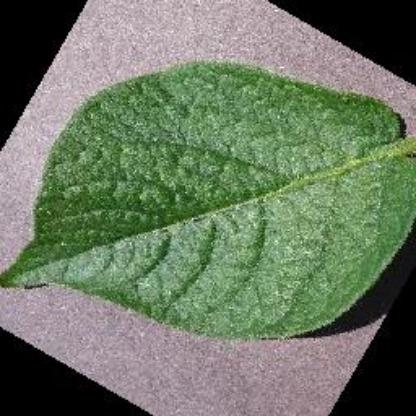Healthy-plant: (6, 59, 410, 339)
